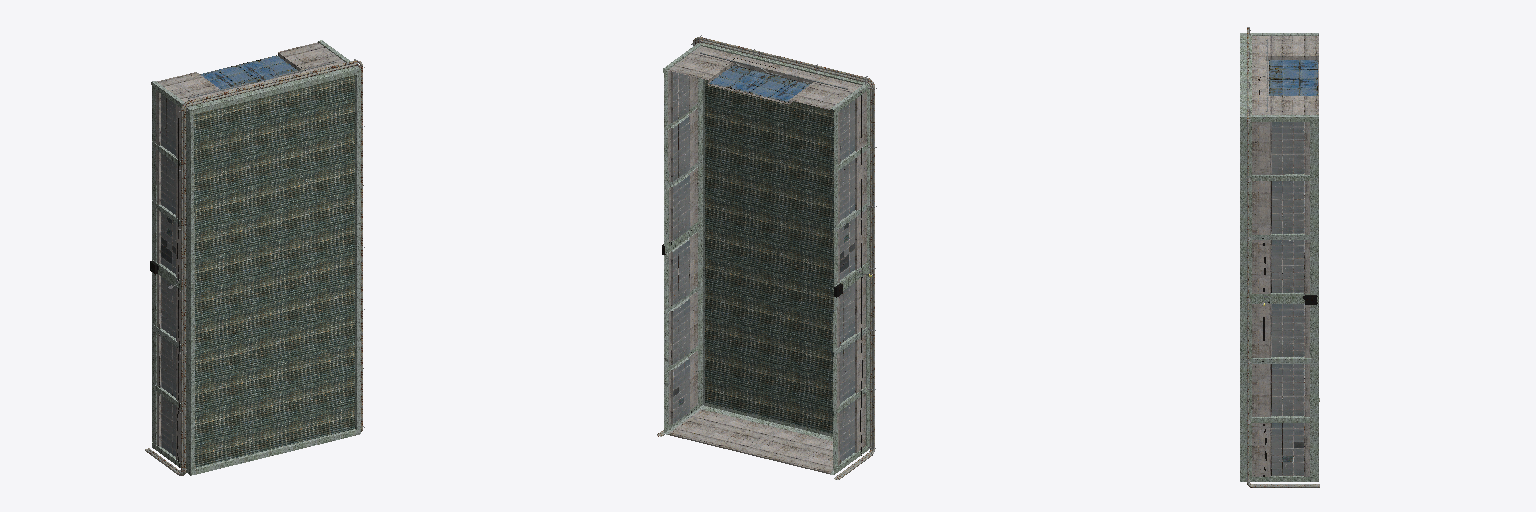
3 views of the same model, side by side, from view 1: azimuth 30°, elevation 25°; view 2: azimuth 150°, elevation 25°; view 3: azimuth 270°, elevation 25° (orthographic).
Parts seen in each view (by area): view 1: MDL_Objec1; view 2: MDL_Objec1; view 3: MDL_Objec1.
Part boxes in pixels (bbox=[...]): MDL_Objec1: bbox=[145, 40, 364, 475]; MDL_Objec1: bbox=[657, 35, 876, 479]; MDL_Objec1: bbox=[1240, 27, 1319, 487].
Size of the model in its own units: 24.72 by 46.08 by 8.82.
Materials: 12 (10 with a texture image).